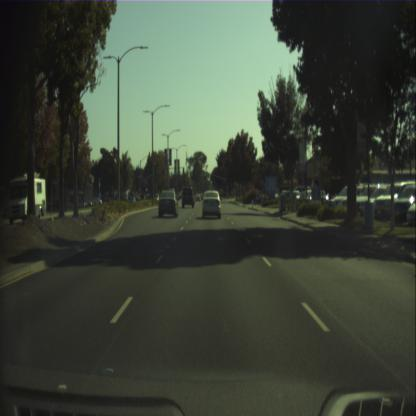Green: (226, 182, 228, 187)
off: (202, 170, 204, 174)
